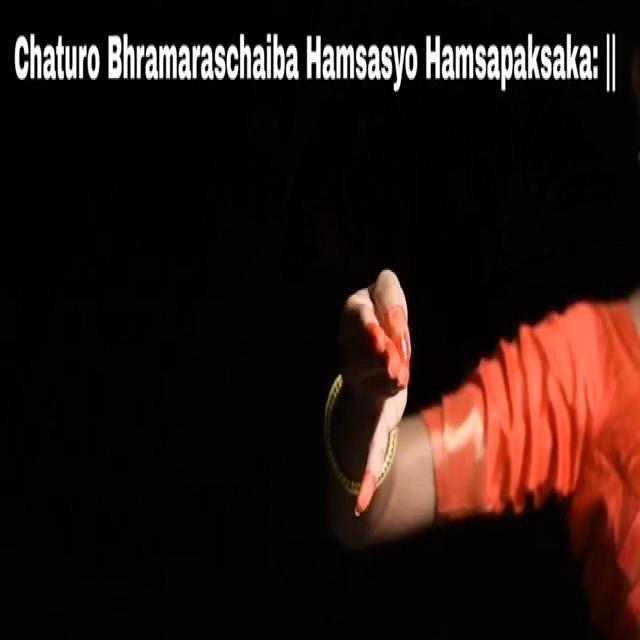Chatura: (324, 239, 434, 529)
text: (12, 15, 626, 105)
